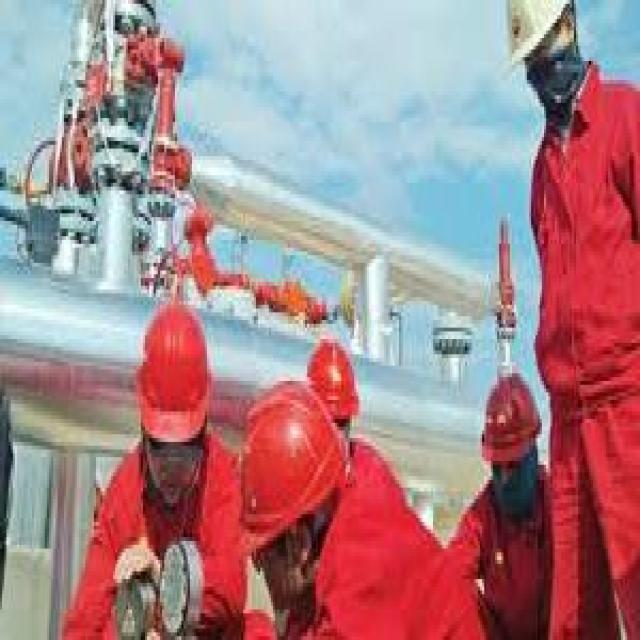Reflective-Jacket: (525, 76, 640, 396), (81, 438, 250, 640)
Safety-Helmet: (237, 378, 350, 552), (122, 294, 224, 449), (471, 366, 544, 476), (301, 328, 367, 430), (499, 0, 580, 69)
